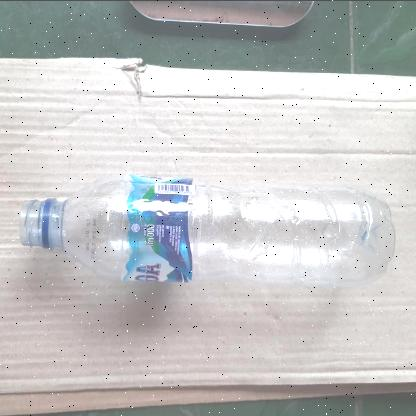Plastic Bottle: (19, 174, 401, 288)
